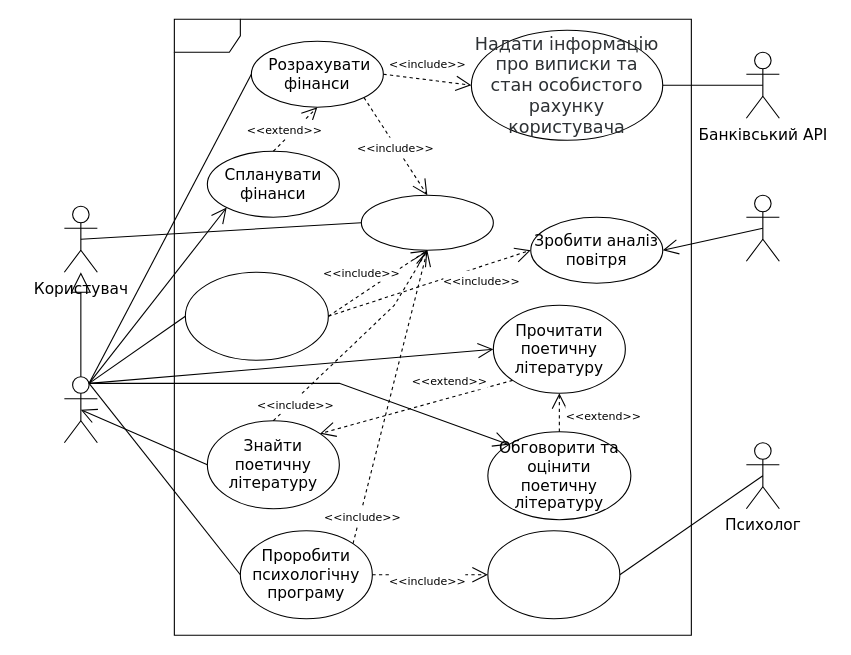
This 851x655 diagram has some shape labels left out. The centre of each missing label's shape, as x and y in pixels:
"Авторизований користувач" goes at point (80, 409).
"Авторизувати користувача" goes at point (426, 222).
"Гідрометеоролог" goes at point (762, 227).
"Отримати оброблені висновки про чистоту повітря" goes at point (256, 315).
"Створити психологічну програму" goes at point (553, 574).
